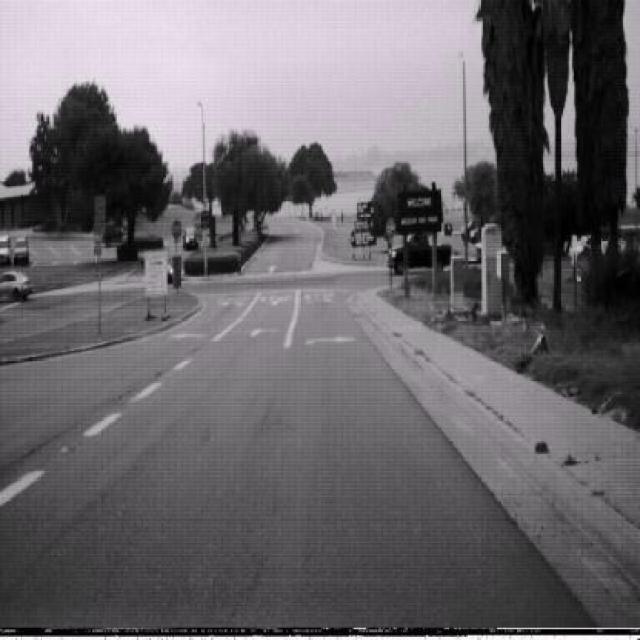stop: (386, 217, 396, 238), (172, 218, 182, 239)
